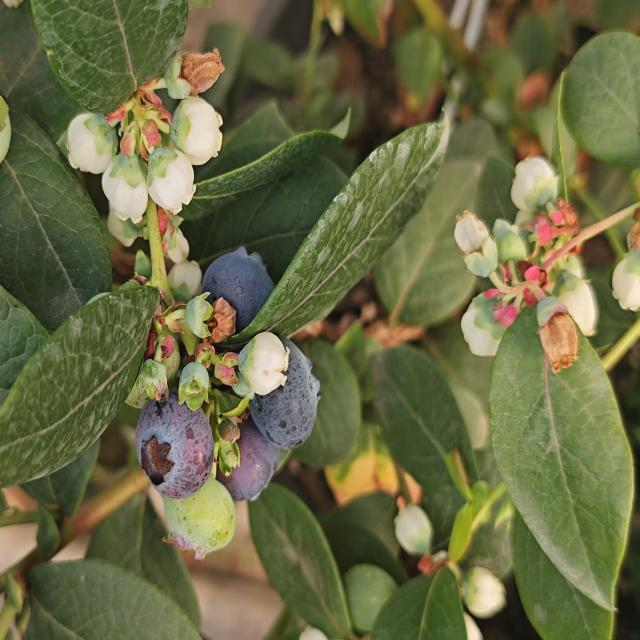ripe: (246, 334, 327, 444), (198, 238, 281, 332), (132, 413, 222, 498), (216, 419, 285, 510)
